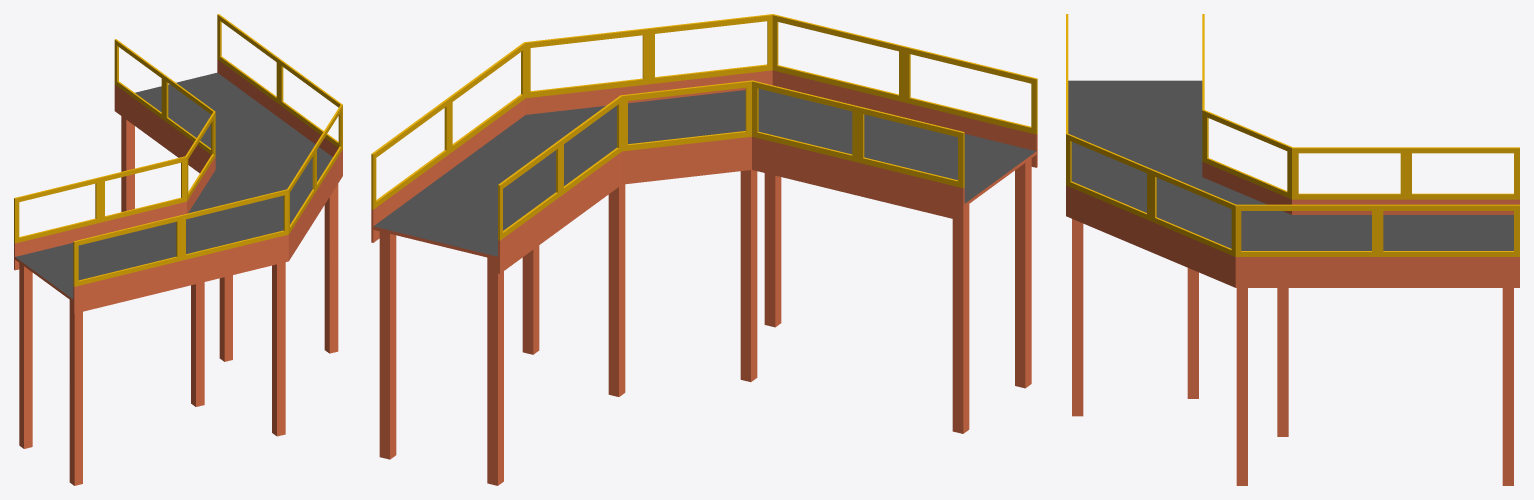
The model's file is Prop_Industrial_Platform_Walkway_Narrow_Bend_02.FBX.
3 views of the same model, side by side, from view 1: azimuth 30°, elevation 25°; view 2: azimuth 150°, elevation 25°; view 3: azimuth 270°, elevation 25° (orthographic). The views are drawn at different scales.
Visible parts, largest first — view 1: Prop_Industrial_Platform_Walkway_Narrow_Bend_02; view 2: Prop_Industrial_Platform_Walkway_Narrow_Bend_02; view 3: Prop_Industrial_Platform_Walkway_Narrow_Bend_02.
Boxes of the visible parts, box(x1,y1,x2,y2) form: Prop_Industrial_Platform_Walkway_Narrow_Bend_02: box(14, 14, 342, 485); Prop_Industrial_Platform_Walkway_Narrow_Bend_02: box(371, 14, 1037, 485); Prop_Industrial_Platform_Walkway_Narrow_Bend_02: box(1066, 14, 1519, 485).
Bounding box in the file's own units: 8000 × 5500 × 8000.
